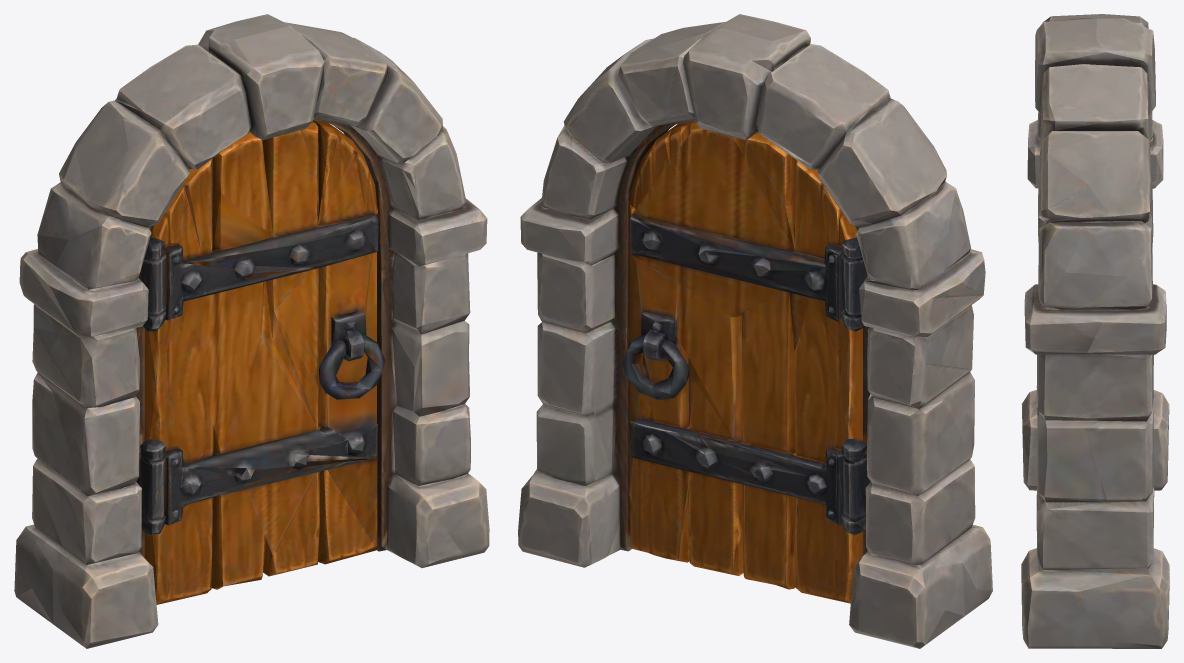
The model's file is dungeon-door.glb.
3 renders of one model, left to right at view 1: azimuth 30°, elevation 25°; view 2: azimuth 150°, elevation 25°; view 3: azimuth 270°, elevation 25°, orthographic. The views are drawn at different scales.
Visible parts, largest first — view 1: output_unwrapped; view 2: output_unwrapped; view 3: output_unwrapped.
Boxes of the visible parts, x1=… form: output_unwrapped: x1=14, y1=14, x2=489, y2=648; output_unwrapped: x1=518, y1=14, x2=992, y2=648; output_unwrapped: x1=1021, y1=14, x2=1169, y2=648.
Size of the model in its own units: 1.5 by 1.9 by 0.4843.
Materials: 1 (1 with a texture image).
